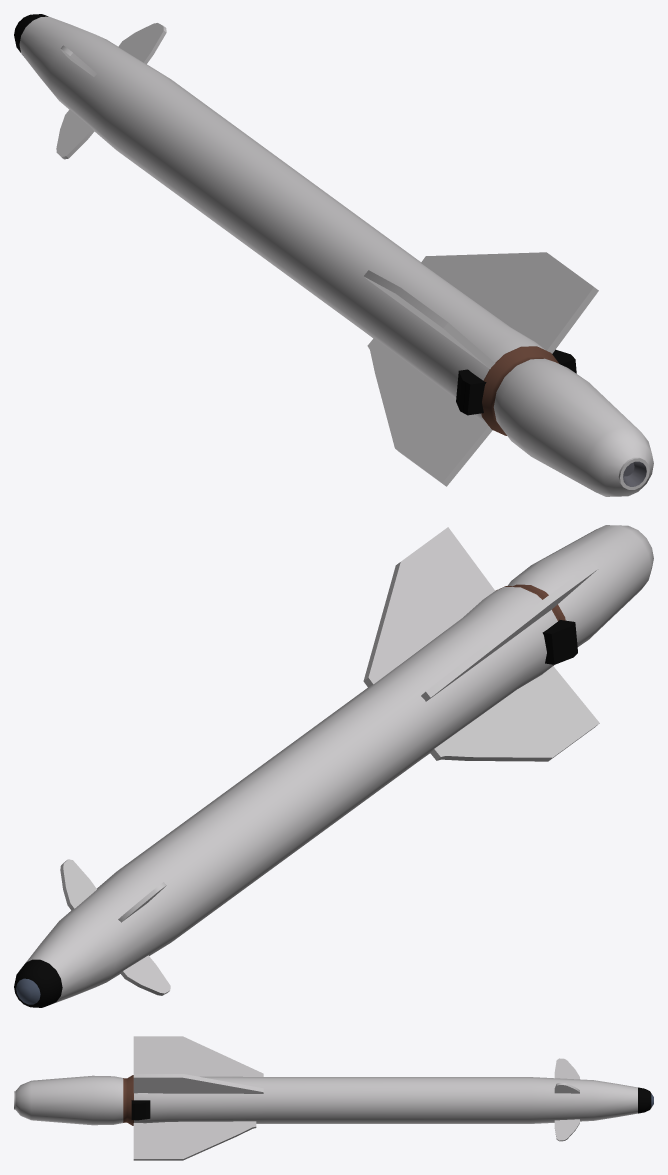
3 renders of one model, top to bottom at view 1: azimuth 30°, elevation 25°; view 2: azimuth 150°, elevation 25°; view 3: azimuth 270°, elevation 25°, orthographic. The views are drawn at different scales.
Parts seen in each view (by area): view 1: kh25; view 2: kh25; view 3: kh25.
Part boxes in pixels (bbox=[...]): kh25: bbox=[14, 14, 653, 496]; kh25: bbox=[14, 525, 653, 1007]; kh25: bbox=[14, 1036, 653, 1160].
Size of the model in its own units: 0.5616 by 0.5597 by 3.76.
